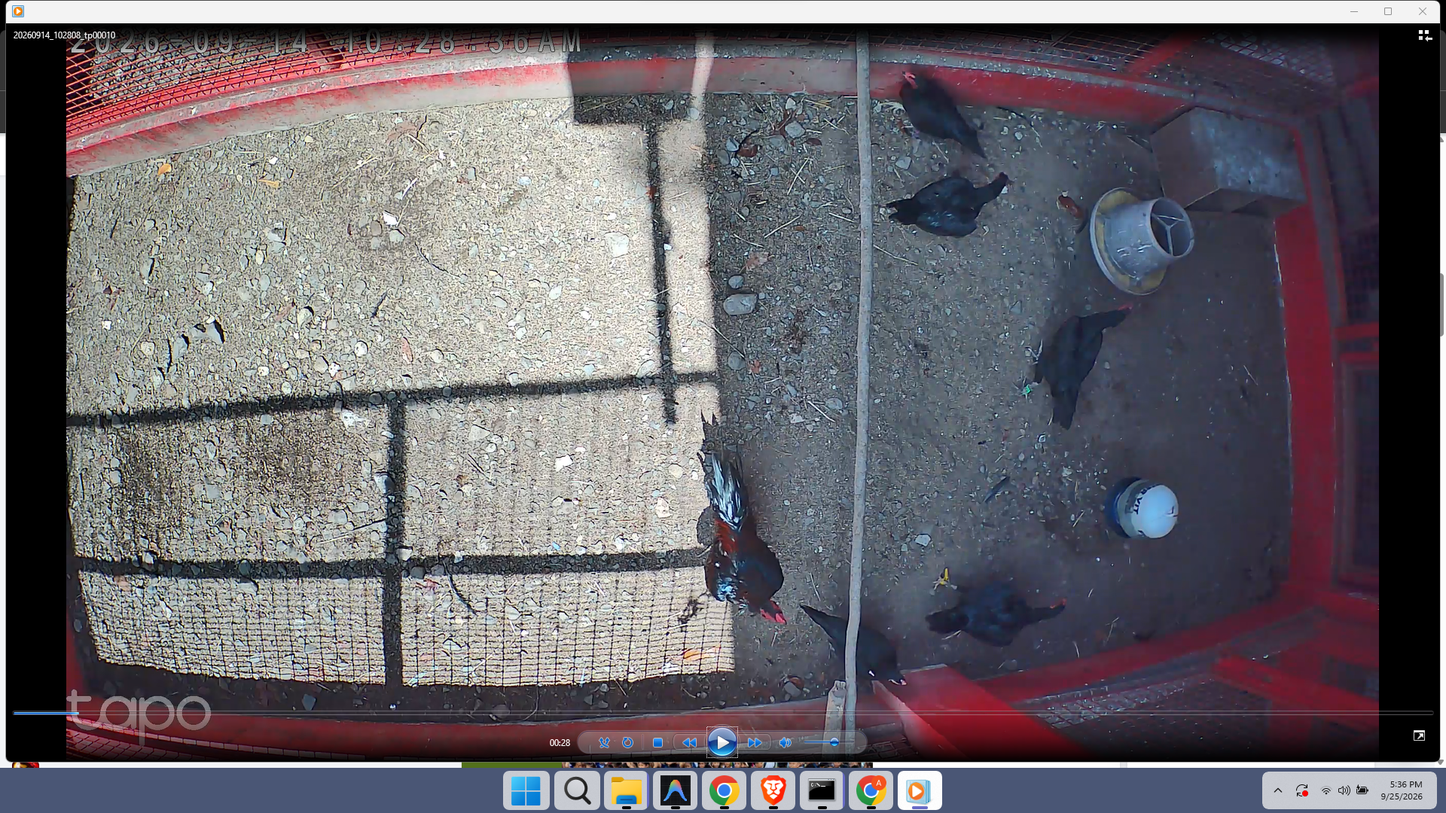Chicken: (1013, 296, 1139, 432), (925, 563, 1080, 649), (797, 601, 913, 688), (886, 69, 988, 160), (881, 166, 1009, 235)
Drinker: (1106, 476, 1183, 544)
Feeder: (1089, 182, 1195, 296)
Rooster: (699, 446, 793, 625)
